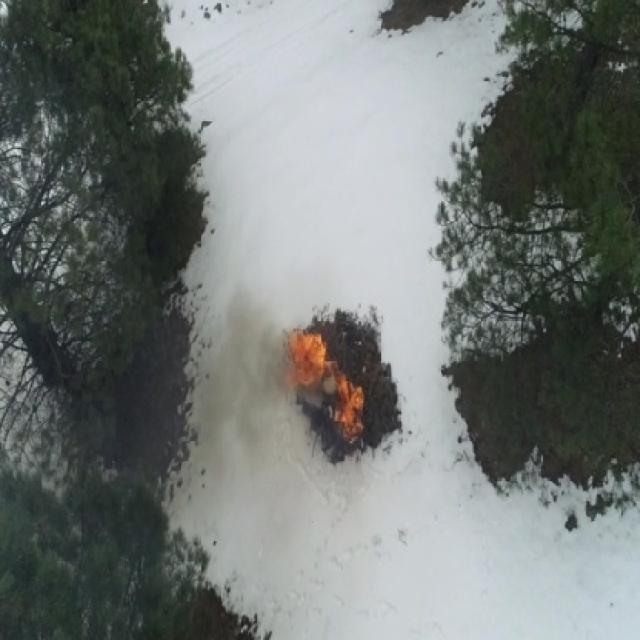Fire: (288, 331, 328, 384), (335, 385, 362, 440), (340, 374, 350, 388), (330, 362, 338, 372)
